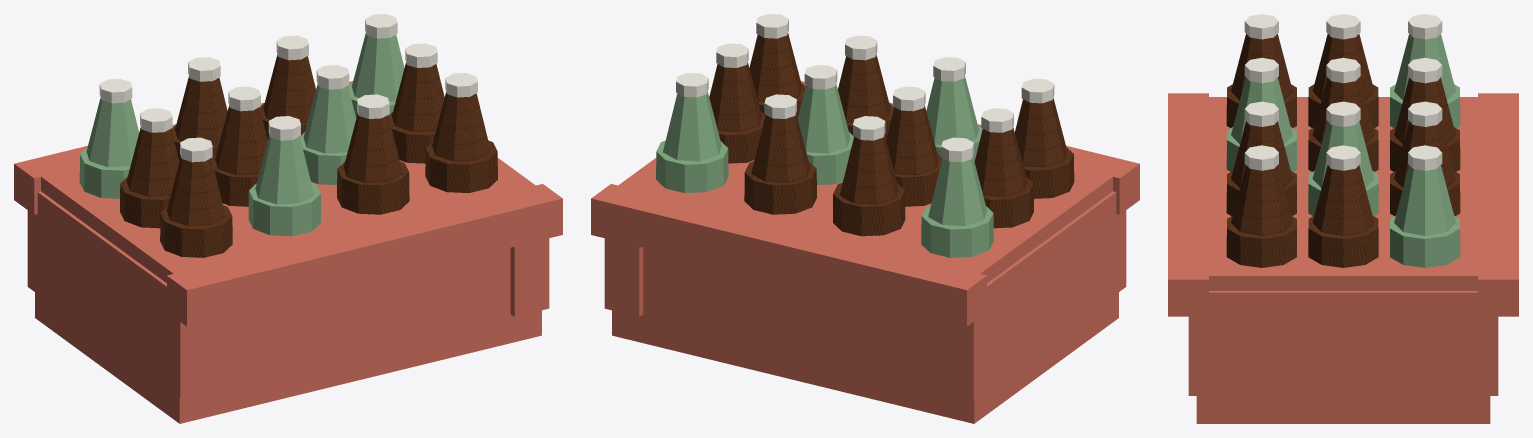
File: bottle_crate.glb
3 views of the same model, side by side, from view 1: azimuth 30°, elevation 25°; view 2: azimuth 150°, elevation 25°; view 3: azimuth 270°, elevation 25° (orthographic).
Visible parts, largest first — view 1: bottle-crate-vermilion, bottle-crate-darkwood, bottle-crate-leaf, bottle-crate-cream; view 2: bottle-crate-vermilion, bottle-crate-darkwood, bottle-crate-leaf, bottle-crate-cream; view 3: bottle-crate-vermilion, bottle-crate-darkwood, bottle-crate-leaf, bottle-crate-cream.
Part boxes in pixels (left/top/right/bottom): bottle-crate-vermilion: left=14, top=81, right=562, bottom=423; bottle-crate-darkwood: left=120, top=55, right=497, bottom=257; bottle-crate-leaf: left=79, top=33, right=404, bottom=236; bottle-crate-cream: left=99, top=14, right=477, bottom=162; bottle-crate-vermilion: left=591, top=81, right=1139, bottom=423; bottle-crate-darkwood: left=709, top=33, right=1074, bottom=236; bottle-crate-leaf: left=656, top=76, right=993, bottom=257; bottle-crate-cream: left=676, top=14, right=1054, bottom=162; bottle-crate-vermilion: left=1168, top=93, right=1518, bottom=423; bottle-crate-darkwood: left=1226, top=34, right=1460, bottom=267; bottle-crate-leaf: left=1226, top=34, right=1460, bottom=267; bottle-crate-cream: left=1244, top=14, right=1442, bottom=170.
Size of the model in its own units: 0.54 by 0.335 by 0.43.
5 materials, 1 textured.
